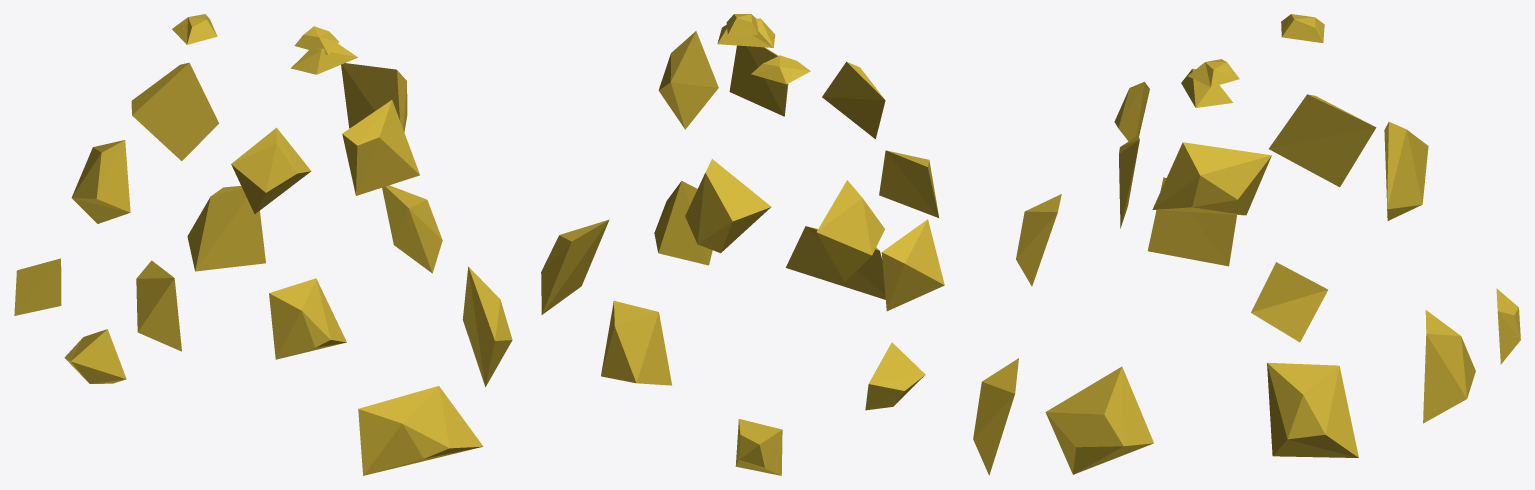
Rendered from GoldOreB.fbx.
3 views of the same model, side by side, from view 1: azimuth 30°, elevation 25°; view 2: azimuth 150°, elevation 25°; view 3: azimuth 270°, elevation 25° (orthographic). The views are drawn at different scales.
Parts seen in each view (by area): view 1: GoldOreB; view 2: GoldOreB; view 3: GoldOreB.
Part boxes in pixels (<box>): GoldOreB: <box>14,14,512,475</box>; GoldOreB: <box>541,14,944,475</box>; GoldOreB: <box>973,14,1520,475</box>.
Size of the model in its own units: 39.36 by 36.05 by 45.92.
